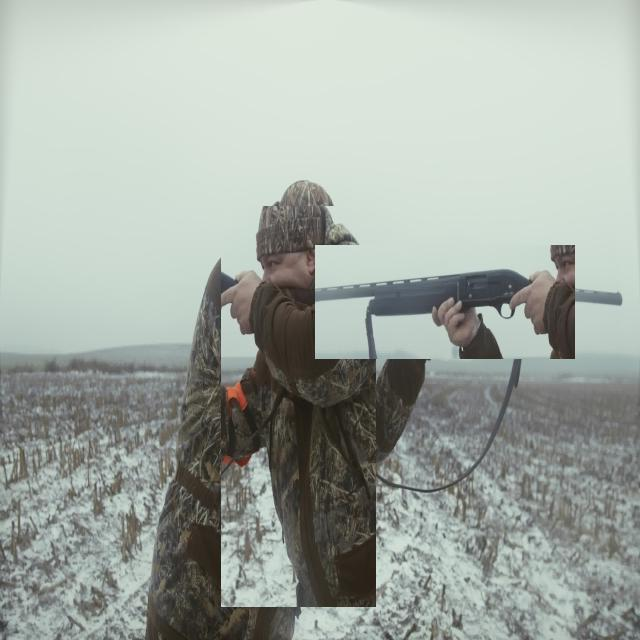poacher: (221, 206, 376, 607)
weapon: (316, 245, 576, 359)
